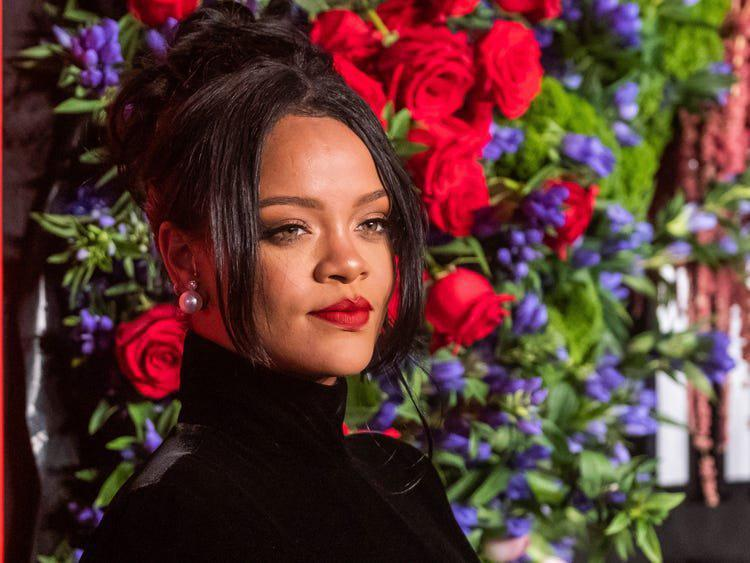Sober: (254, 119, 392, 368)
